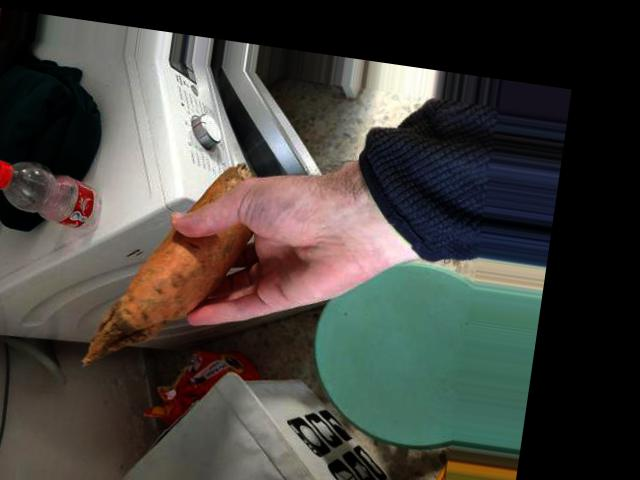sweet_potato: (116, 190, 250, 327)
